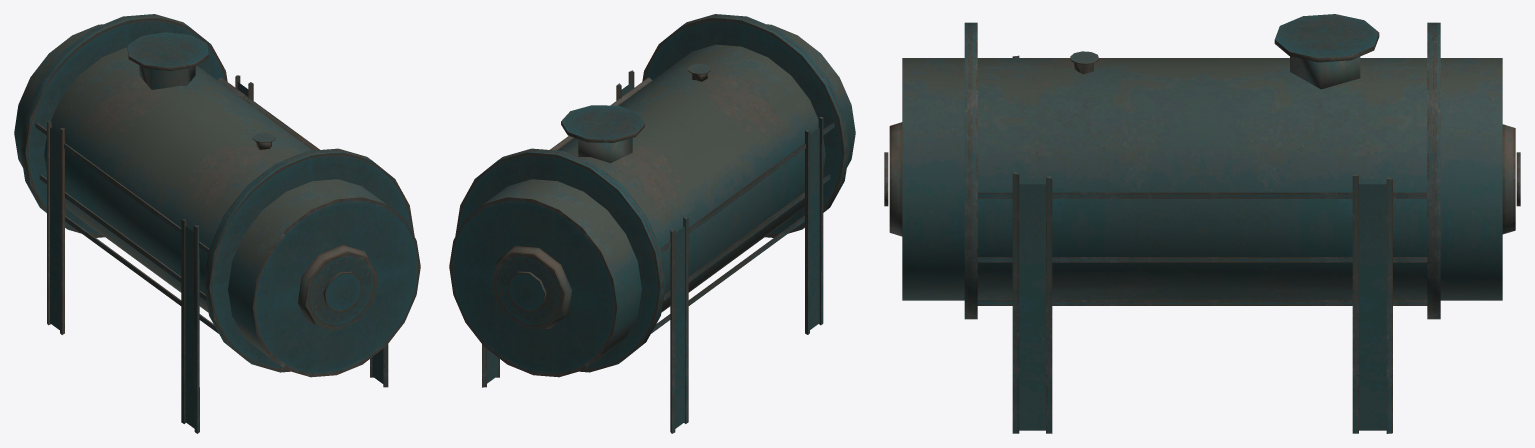
The model's file is Prop_Yg01_lod1.glb.
The picture shows the model from 3 angles, left to right: view 1: azimuth 30°, elevation 25°; view 2: azimuth 150°, elevation 25°; view 3: azimuth 270°, elevation 25°; orthographic projection. The views are drawn at different scales.
Parts seen in each view (by area): view 1: xiutz_yg_01_lod1; view 2: xiutz_yg_01_lod1; view 3: xiutz_yg_01_lod1.
Part boxes in pixels (bbox=[...]): xiutz_yg_01_lod1: bbox=[14, 14, 420, 433]; xiutz_yg_01_lod1: bbox=[449, 14, 855, 433]; xiutz_yg_01_lod1: bbox=[884, 14, 1520, 433].
Bounding box in the file's own units: 3.31 × 4.15 × 7.05.
Materials: 1 (1 with a texture image).
